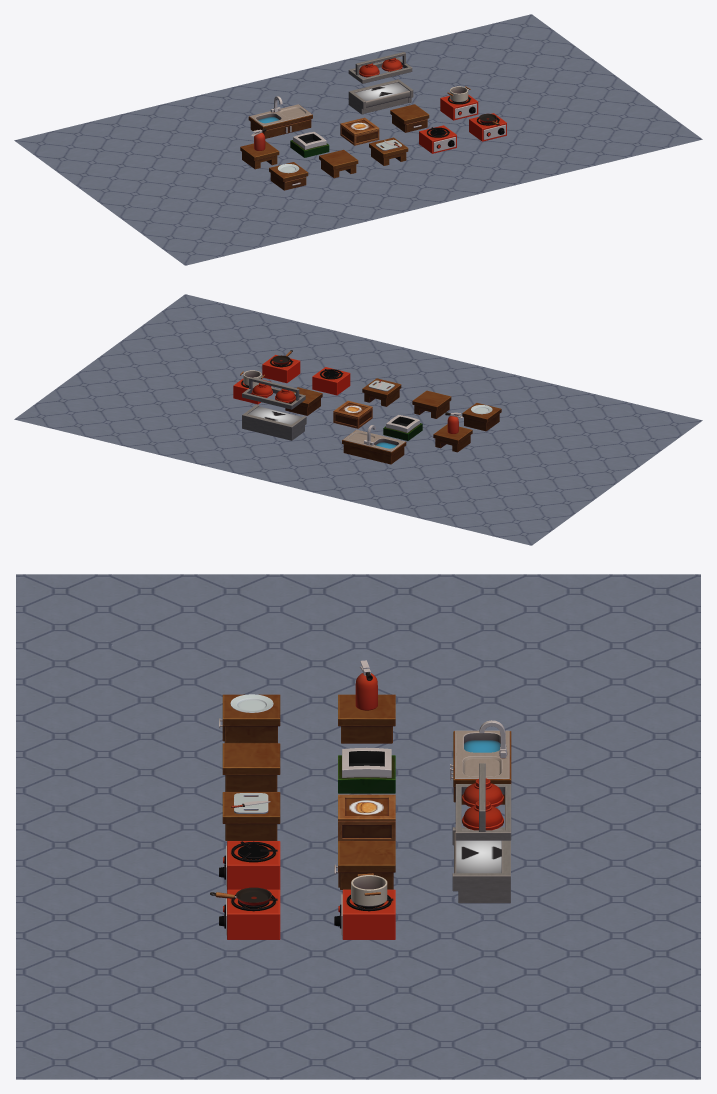
File: ModelosMesas.glb
3 views of the same model, one above another, from view 1: azimuth 30°, elevation 25°; view 2: azimuth 150°, elevation 25°; view 3: azimuth 270°, elevation 25° (orthographic). The views are drawn at different scales.
Parts seen in each view (by area): view 1: Object_2, Object_3, Object_4, Object_5; view 2: Object_2, Object_3, Object_4, Object_5; view 3: Object_2, Object_3, Object_4, Object_5.
Boxes of the visible parts, bbox=[...] form: Object_2: bbox=[14, 14, 702, 265]; Object_3: bbox=[240, 94, 506, 190]; Object_4: bbox=[248, 52, 413, 138]; Object_5: bbox=[251, 86, 499, 173]; Object_2: bbox=[14, 294, 702, 545]; Object_3: bbox=[233, 354, 501, 452]; Object_4: bbox=[242, 377, 406, 464]; Object_5: bbox=[240, 350, 492, 433]; Object_2: bbox=[16, 574, 700, 1079]; Object_3: bbox=[219, 694, 395, 939]; Object_4: bbox=[450, 720, 511, 903]; Object_5: bbox=[210, 660, 387, 906].
Size of the model in its own units: 41.42 by 3.52 by 23.73.
Materials: 4 (4 with a texture image).
